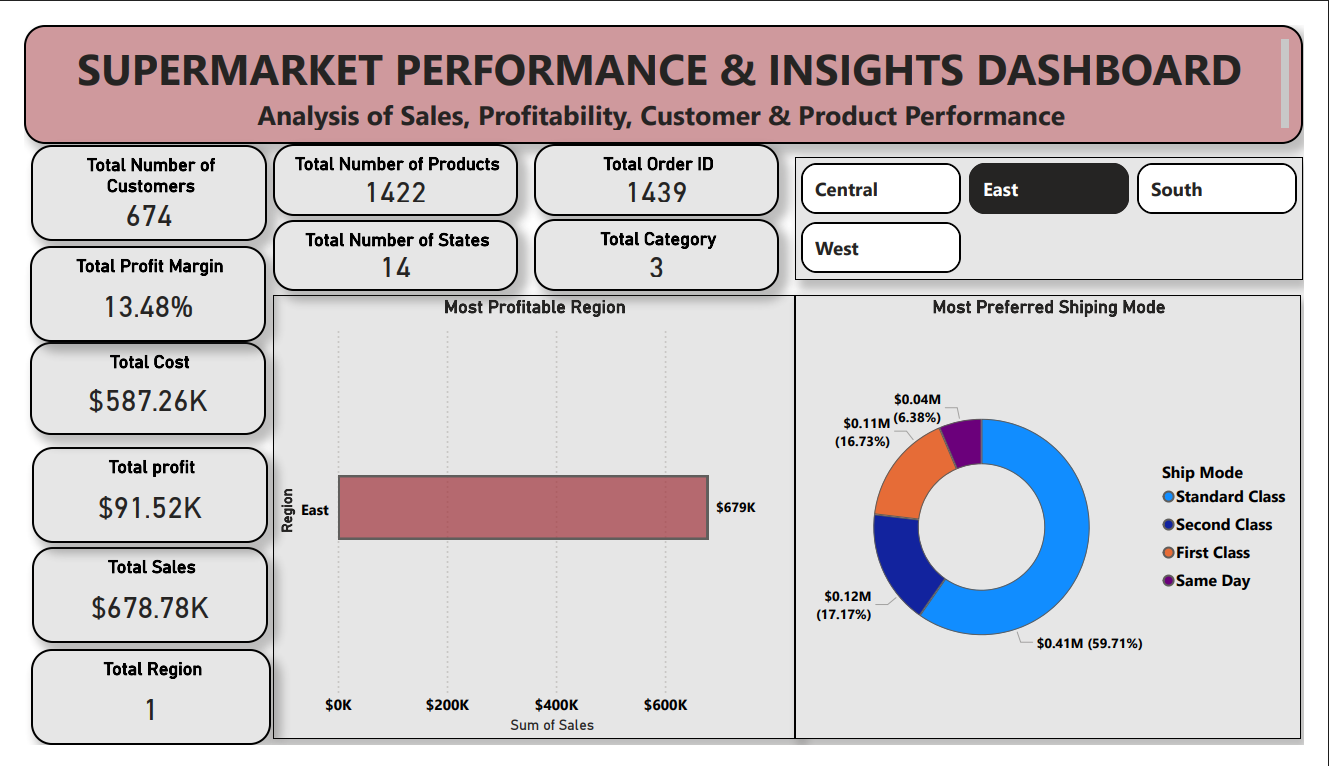

Layout of this report page (visuals, bound fields, positions):
{"tool":"powerbi","page":{"name":"Page 4","canvas":[1280,720],"ordinal":3},"visuals":[{"type":"textbox","box":[0,0,1279.4,119.1],"z":0},{"type":"clusteredBarChart","title":"Most Profitable Region","fields":{"Category":["Sample - Superstore excel cleaned.Region"],"Y":["Sum(Sample - Superstore excel cleaned.Sales)"]},"box":[250,270,520,443.3],"z":1000},{"type":"donutChart","title":"Most Preferred Shiping Mode","fields":{"Category":["Sample - Superstore excel cleaned.Ship Mode"],"Y":["Sum(Sample - Superstore excel cleaned.Sales)"]},"box":[771,270.2,506.5,444.1],"z":2000},{"type":"advancedSlicerVisual","fields":{"Values":["Sample - Superstore excel cleaned.Region"]},"box":[771,132.3,508.4,122.8],"z":3000},{"type":"card","title":"Total Sales","fields":{"Values":["Sum(Sample - Superstore excel cleaned.Sales)"]},"box":[7.6,521.6,236.2,96.4],"z":4000},{"type":"card","title":"Total Region","fields":{"Values":["Count(Sample - Superstore excel cleaned.Region)"]},"box":[7,623.6,240,96.4],"z":5000},{"type":"card","title":"Total profit","fields":{"Values":["Sum(Sample - Superstore excel cleaned.Profit)"]},"box":[7.6,422,236.2,96.4],"z":6000},{"type":"card","title":"Total Cost","fields":{"Values":["Sample - Superstore excel cleaned.Total Cost"]},"box":[5.7,317.5,236.2,92.6],"z":7000},{"type":"card","title":"Total Profit Margin","fields":{"Values":["Sample - Superstore excel cleaned.Profit Margin"]},"box":[5.7,221.1,236.2,96.4],"z":8000},{"type":"card","title":"Total Number of Customers","fields":{"Values":["Count(Sample - Superstore excel cleaned.Customer ID)"]},"box":[7,120,236.2,96.4],"z":9000},{"type":"card","title":"Total Number of Products","fields":{"Values":["Count(Sample - Superstore excel cleaned.Product ID)"]},"box":[249.5,119.1,245,72],"z":10000},{"type":"card","title":"Total Number of States","fields":{"Values":["Count(Sample - Superstore excel cleaned.State)"]},"box":[249.5,194.6,245,71.8],"z":11000},{"type":"card","title":"Total Order ID","fields":{"Values":["Count(Sample - Superstore excel cleaned.Order ID)"]},"box":[510.2,119.1,245,71.8],"z":12000},{"type":"card","title":"Total Category","fields":{"Values":["Count(Sample - Superstore excel cleaned.Category)"]},"box":[510.2,194,245,71.8],"z":13000}]}

Visuals, with their boxes in screenshot pixels (x1, y1, x2, y2), scaled from the page's 1280x720 canvas onto the 1329x766 screenshot:
textbox: [x1=0, y1=0, x2=1328, y2=127]
"Most Profitable Region" clusteredBarChart: [x1=260, y1=287, x2=799, y2=759]
"Most Preferred Shiping Mode" donutChart: [x1=801, y1=287, x2=1326, y2=760]
advancedSlicerVisual - Sample - Superstore excel cleaned.Region: [x1=801, y1=141, x2=1328, y2=271]
"Total Sales" card: [x1=8, y1=555, x2=253, y2=657]
"Total Region" card: [x1=7, y1=663, x2=256, y2=765]
"Total profit" card: [x1=8, y1=449, x2=253, y2=552]
"Total Cost" card: [x1=6, y1=338, x2=251, y2=436]
"Total Profit Margin" card: [x1=6, y1=235, x2=251, y2=338]
"Total Number of Customers" card: [x1=7, y1=128, x2=253, y2=230]
"Total Number of Products" card: [x1=259, y1=127, x2=513, y2=203]
"Total Number of States" card: [x1=259, y1=207, x2=513, y2=283]
"Total Order ID" card: [x1=530, y1=127, x2=784, y2=203]
"Total Category" card: [x1=530, y1=206, x2=784, y2=283]
